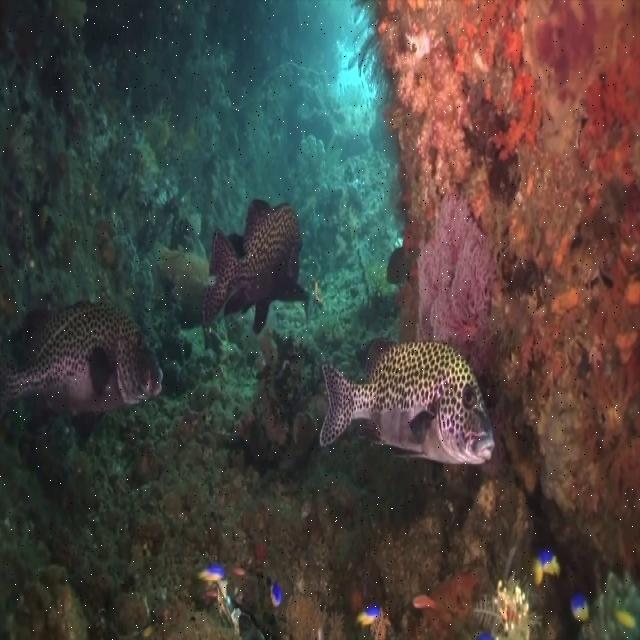fish: (1, 300, 164, 443), (319, 338, 495, 465), (201, 197, 309, 336), (534, 551, 560, 582), (195, 563, 225, 582), (357, 603, 381, 625), (271, 582, 283, 605), (414, 595, 437, 607)
reefs: (351, 0, 639, 638)
